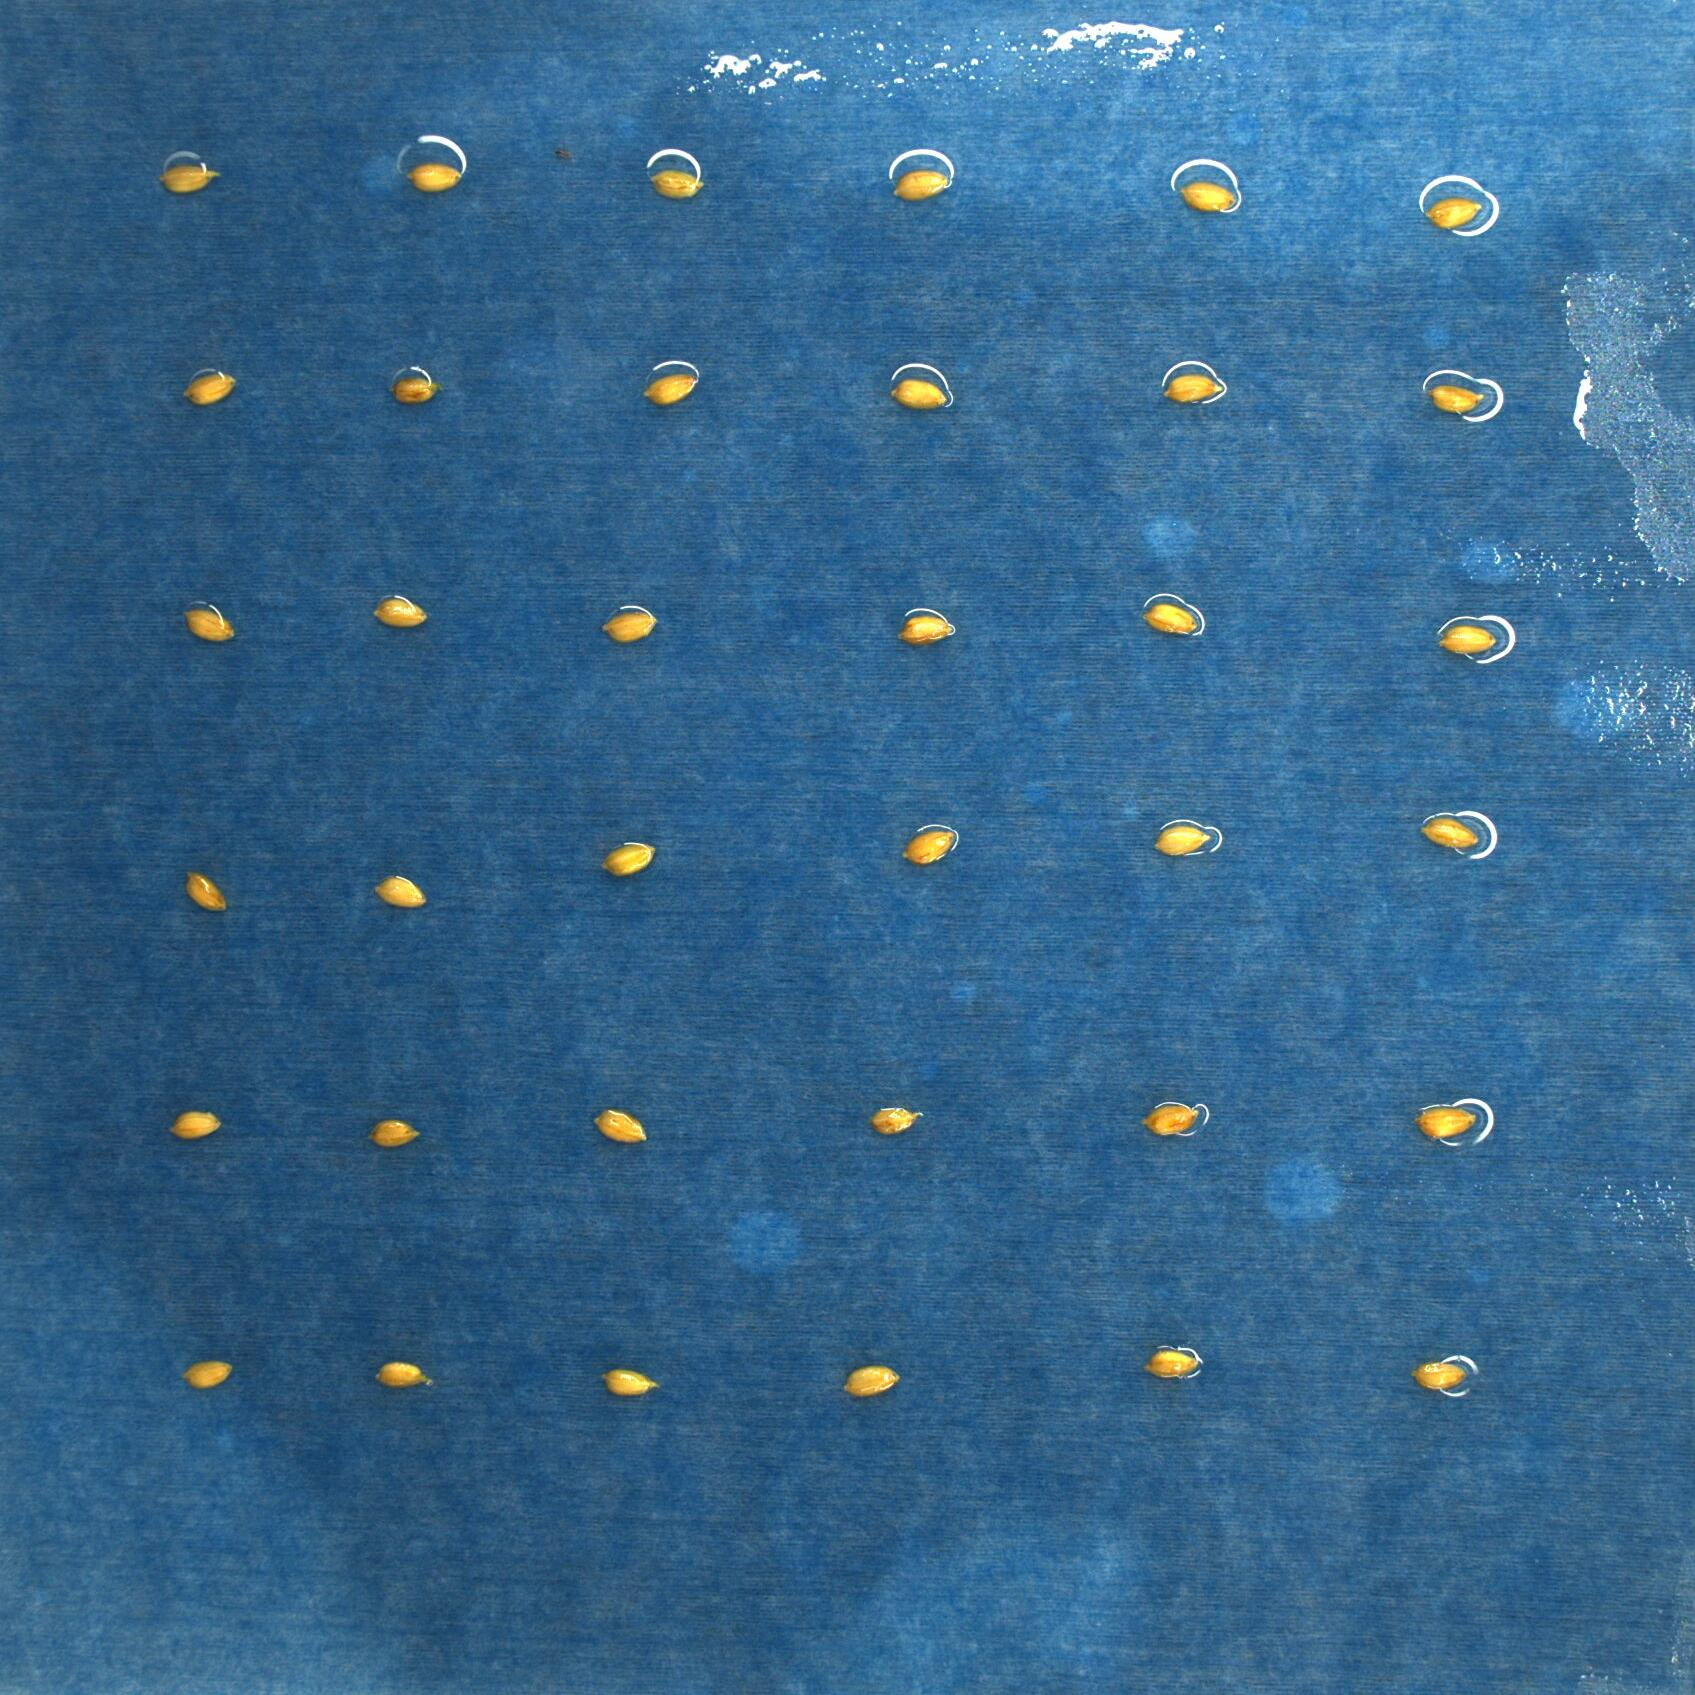not sprout: (1138, 599, 1201, 640), (1419, 816, 1479, 855), (1434, 621, 1496, 658), (1180, 179, 1239, 217), (591, 1107, 647, 1146), (1139, 1104, 1200, 1139), (598, 1364, 655, 1402), (601, 840, 655, 879), (1159, 373, 1223, 405), (641, 373, 698, 408), (371, 598, 428, 633), (1416, 1105, 1478, 1138), (374, 872, 425, 911), (1152, 826, 1212, 858), (182, 607, 234, 644), (889, 379, 947, 413), (900, 613, 958, 647), (843, 1364, 900, 1399), (1423, 197, 1479, 231), (386, 373, 442, 407), (605, 610, 657, 647), (906, 827, 958, 865), (1146, 1346, 1203, 1378), (366, 1118, 421, 1152), (1426, 383, 1485, 414), (1412, 1360, 1471, 1391), (183, 373, 234, 408), (868, 1104, 920, 1138), (185, 872, 227, 914), (160, 165, 220, 192), (373, 1360, 432, 1388), (185, 1358, 231, 1392), (407, 163, 466, 189), (171, 1110, 224, 1139), (896, 172, 951, 199), (650, 171, 705, 197)
